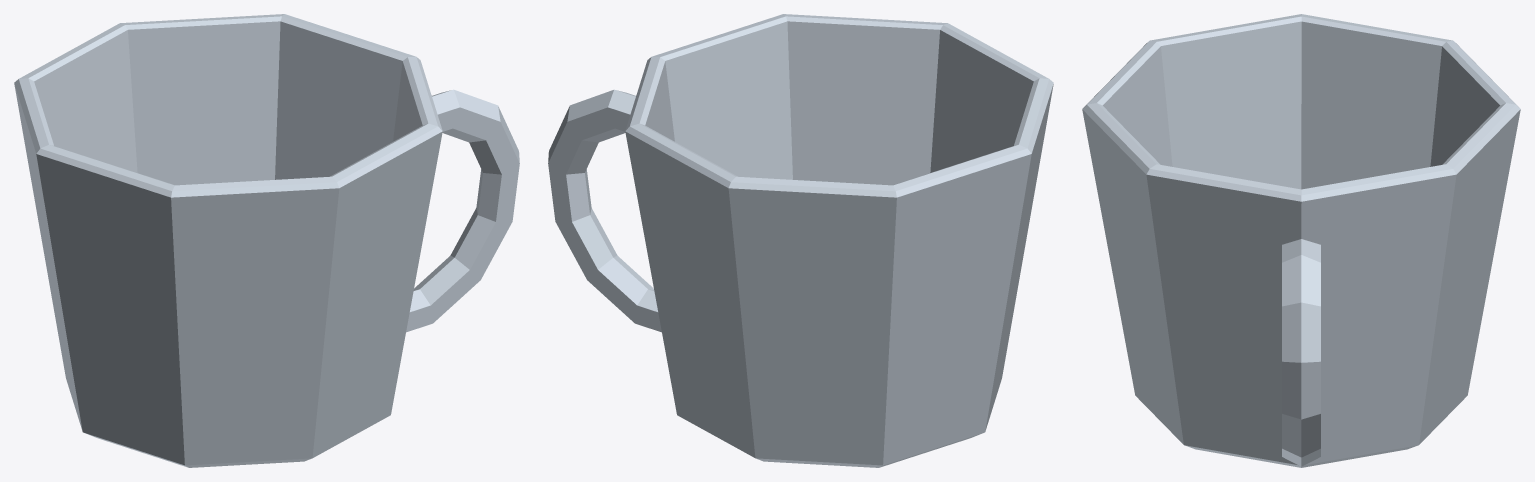
Rendered from TeaCup.fbx.
3 renders of one model, left to right at view 1: azimuth 30°, elevation 25°; view 2: azimuth 150°, elevation 25°; view 3: azimuth 270°, elevation 25°, orthographic.
Visible parts, largest first — view 1: Cylinder, Torus; view 2: Cylinder, Torus; view 3: Cylinder, Torus.
Boxes of the visible parts, box(x1,y1,x2,y2) form: Cylinder: box(14, 14, 442, 467); Torus: box(406, 89, 519, 332); Cylinder: box(625, 14, 1053, 467); Torus: box(548, 89, 661, 332); Cylinder: box(1082, 14, 1520, 467); Torus: box(1282, 239, 1320, 466).
Bounding box in the file's own units: 75.15 × 45.39 × 59.83.
